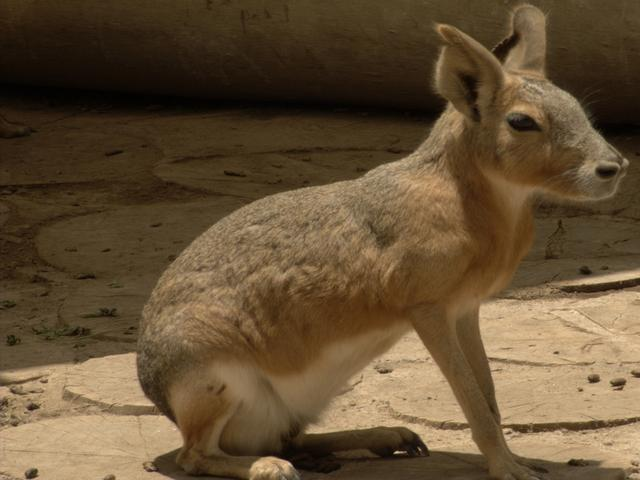kangaroo: (113, 12, 625, 480)
